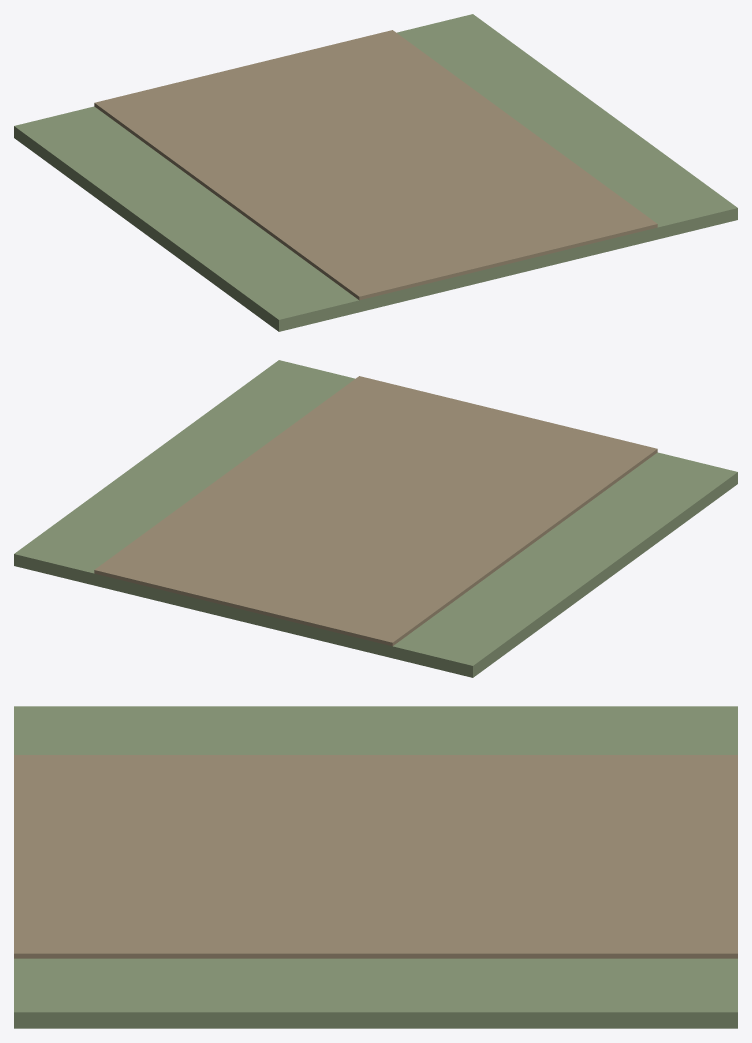
The model's file is road_dirt_straight.glb.
3 renders of one model, top to bottom at view 1: azimuth 30°, elevation 25°; view 2: azimuth 150°, elevation 25°; view 3: azimuth 270°, elevation 25°, orthographic. The views are drawn at different scales.
Parts seen in each view (by area): view 1: road_dirt_straight; view 2: road_dirt_straight; view 3: road_dirt_straight.
Boxes of the visible parts, x1,y1,x2,y2 form: road_dirt_straight: [14, 14, 737, 331]; road_dirt_straight: [14, 360, 737, 677]; road_dirt_straight: [14, 706, 737, 1028].
Size of the model in its own units: 4 by 0.13 by 4.
